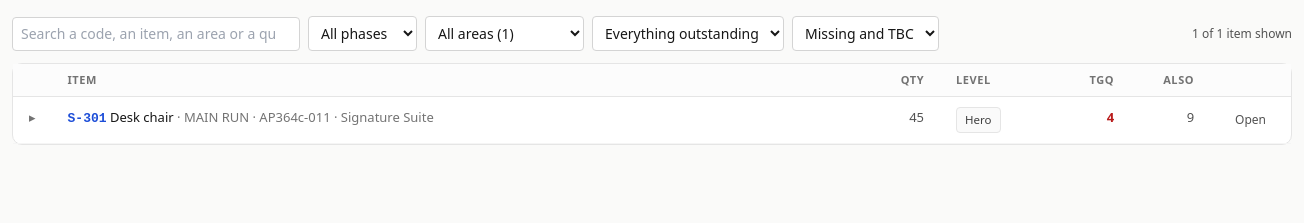
InfillTable › shows the questions it has been given, with the edit box in them
Click the text "Desk chair": (142, 117) [110,108,174,126]
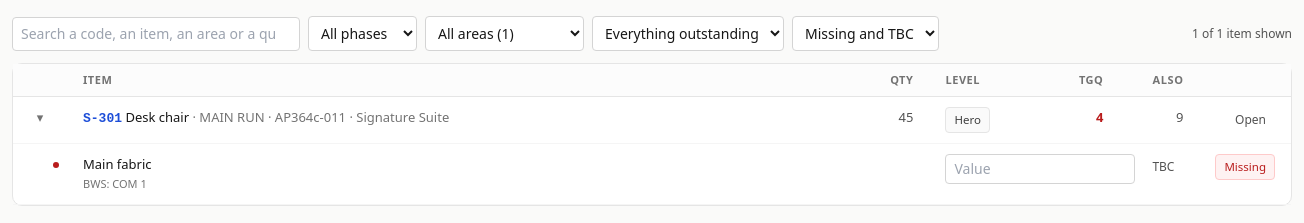
Check: the text "Main fabric" is shown, box [83,155,152,173]
Check: the field with placeholder "Value" is shown, box [945,154,1135,184]
